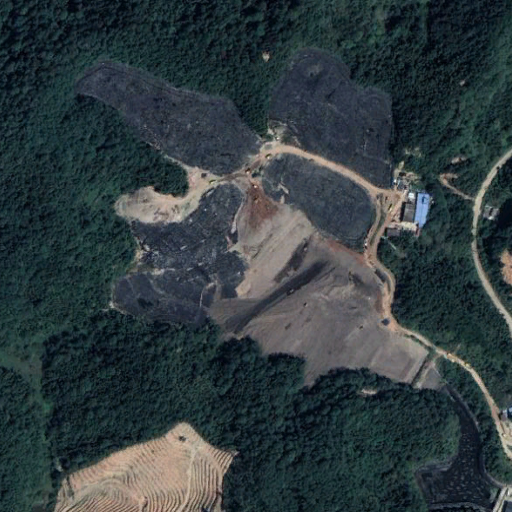lf: (80, 55, 397, 317)
